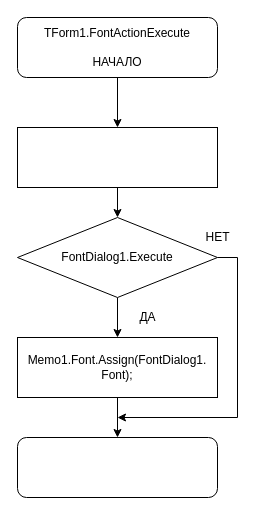
Image size: 263x515. Some labels were removed from this diagram. Each missing label, with the centre of its shape:
FontDialog1.Font.Assign(Memo1. Font);: the point at 117,157
КОНЕЦ TForm1.FontActionExecute: the point at 117,467
